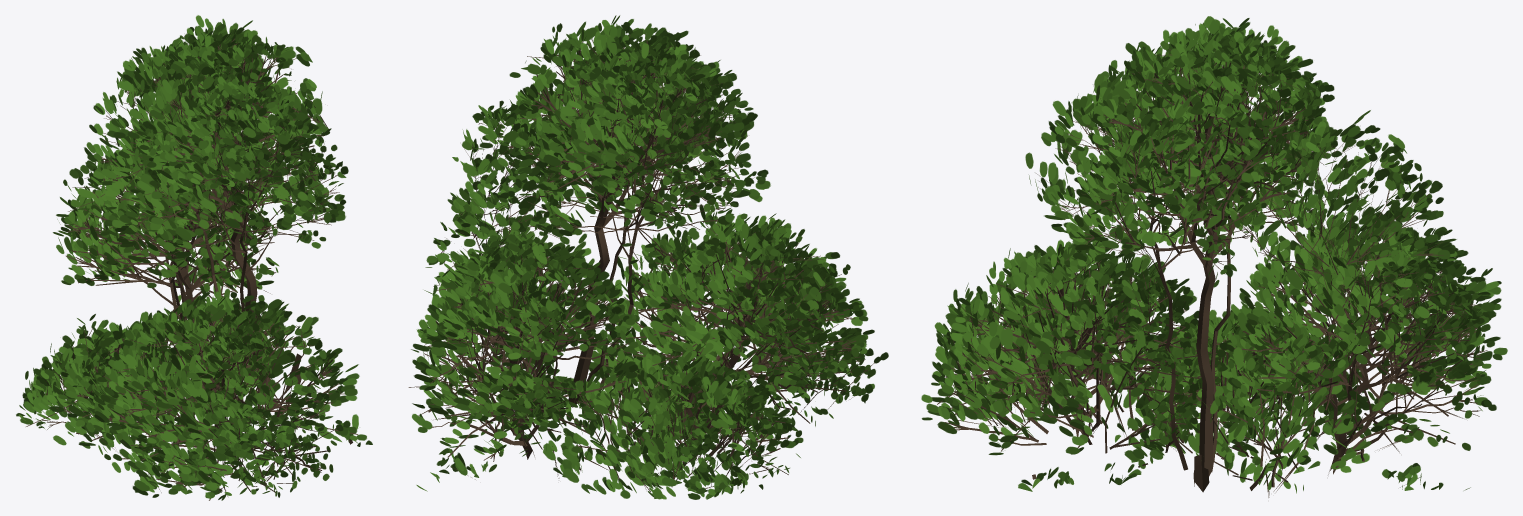
The picture shows the model from 3 angles, left to right: view 1: azimuth 30°, elevation 25°; view 2: azimuth 150°, elevation 25°; view 3: azimuth 270°, elevation 25°; orthographic projection. The views are drawn at different scales.
Parts seen in each view (by area): view 1: oak 01.001_trunk_Mat.001_0.261; view 2: oak 01.001_trunk_Mat.001_0.261; view 3: oak 01.001_trunk_Mat.001_0.261.
Boxes of the visible parts, x1,y1,x2,y2 form: oak 01.001_trunk_Mat.001_0.261: [16, 15, 372, 500]; oak 01.001_trunk_Mat.001_0.261: [408, 15, 888, 499]; oak 01.001_trunk_Mat.001_0.261: [921, 16, 1507, 497].
Bounding box in the file's own units: 3.43 × 4.65 × 5.59.
2 materials, 1 textured.
